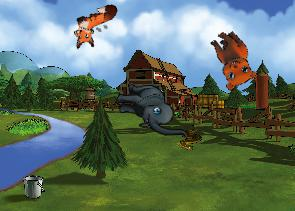bear: (197, 25, 264, 95)
elephant: (116, 82, 187, 140)
fox: (65, 1, 126, 52)
